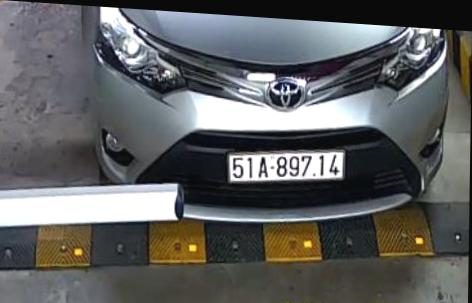License_Plate: (219, 137, 354, 194)
